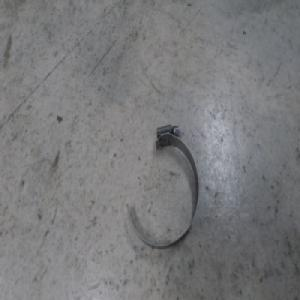AdjustableClamp: (126, 124, 201, 250)
